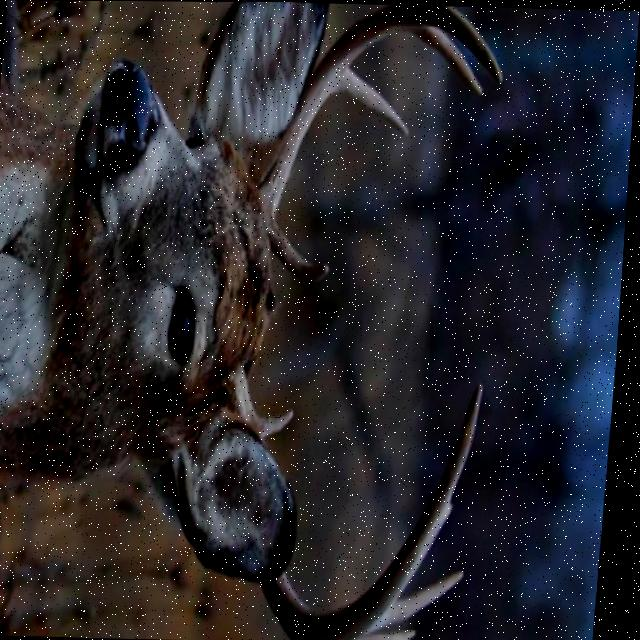L-G1: (263, 408, 297, 436)
R-G1: (271, 221, 332, 279)
R-G2: (326, 67, 410, 135)
